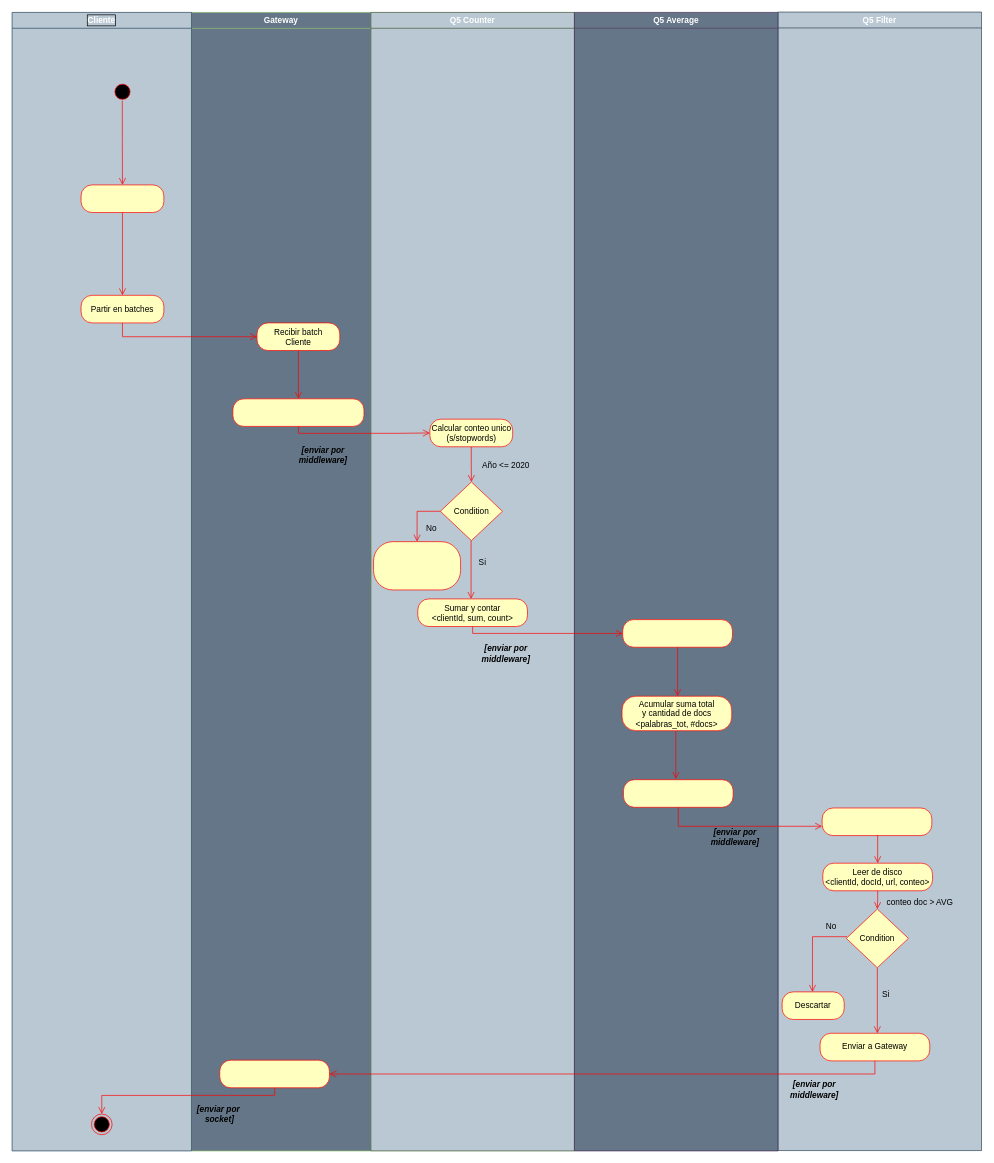
The diagram is 994 pixels wide and 1163 high, and some of its shapes have lost their labels. Each missing label, with the centre of its shape:
Calcular constante <AVG = palabras / #docs>: the point at 678,793
Extraer <clientID,docID,url,date,abstract>: the point at 298,412
Guardar en disco <clientId, docId, url, conteo>: the point at 417,565
Leer archivo .parquet: the point at 122,198
Recibir promedio <AVG>: the point at 876,821
Recibir sumas parciales: the point at 677,633
Ruteo de resultados: the point at 274,1073
